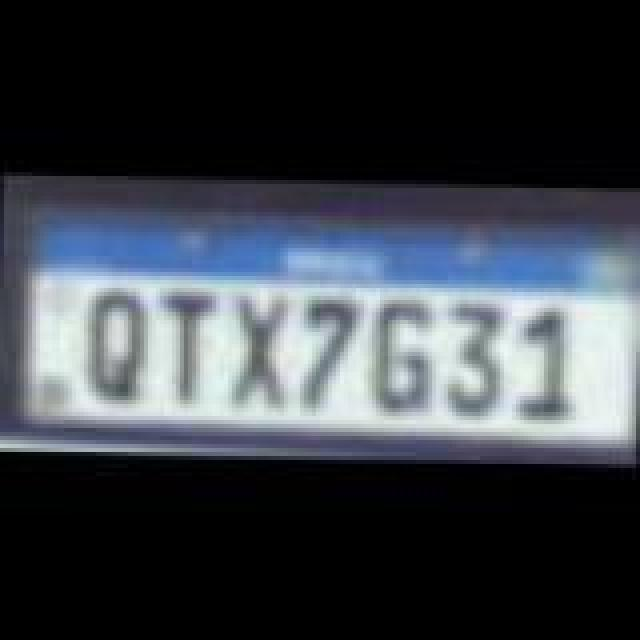1: (510, 298, 578, 422)
3: (436, 298, 508, 414)
7: (300, 294, 364, 406)
G: (376, 298, 440, 414)
Q: (88, 286, 152, 410)
T: (154, 286, 222, 402)
X: (232, 292, 296, 416)
